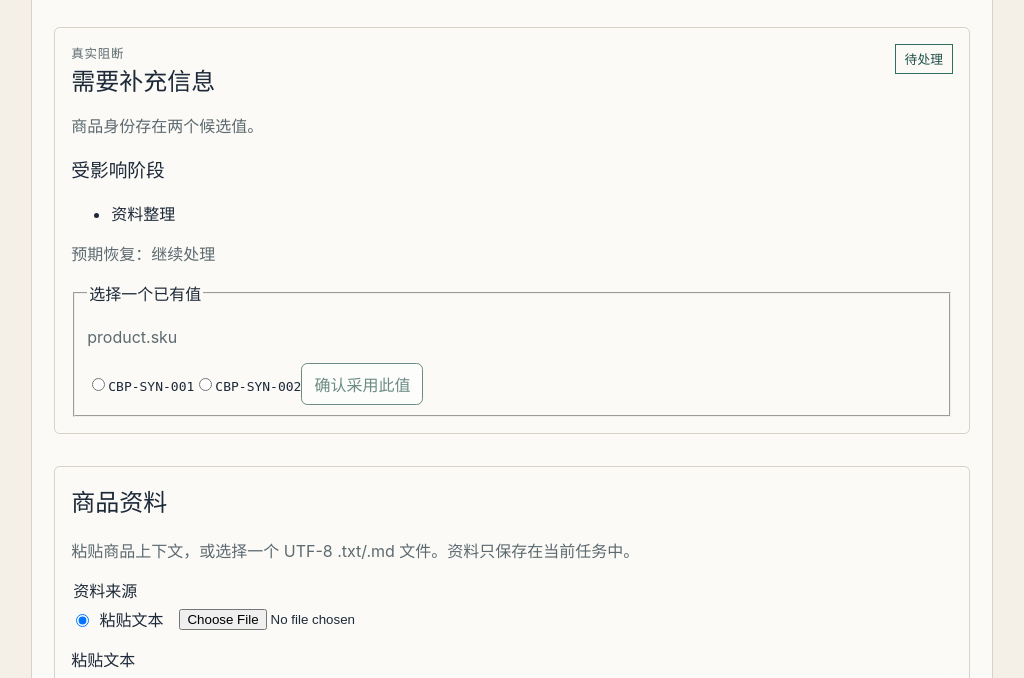
Test: TaskRoutes › blocks a stale authority response and offers an explicit Task refresh instead of replay
(page scrolled)
Click the radio button labelled "CBP-SYN-001".
click(99, 384)  # box [92,378,105,391]
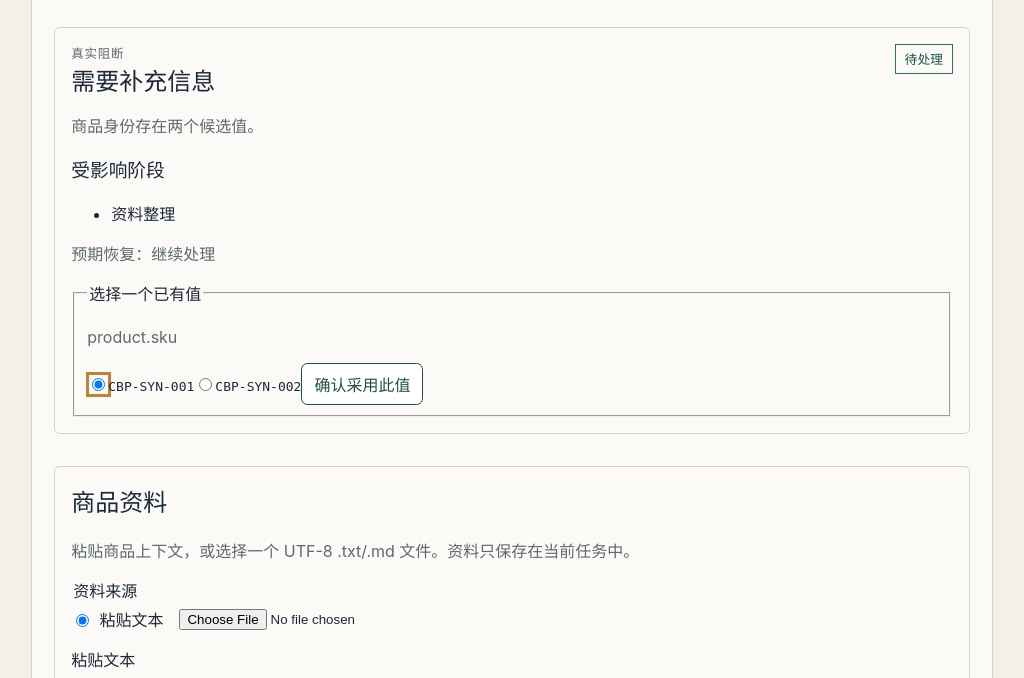
Click the button "确认采用此值".
click(362, 384)  # box [301,363,423,405]
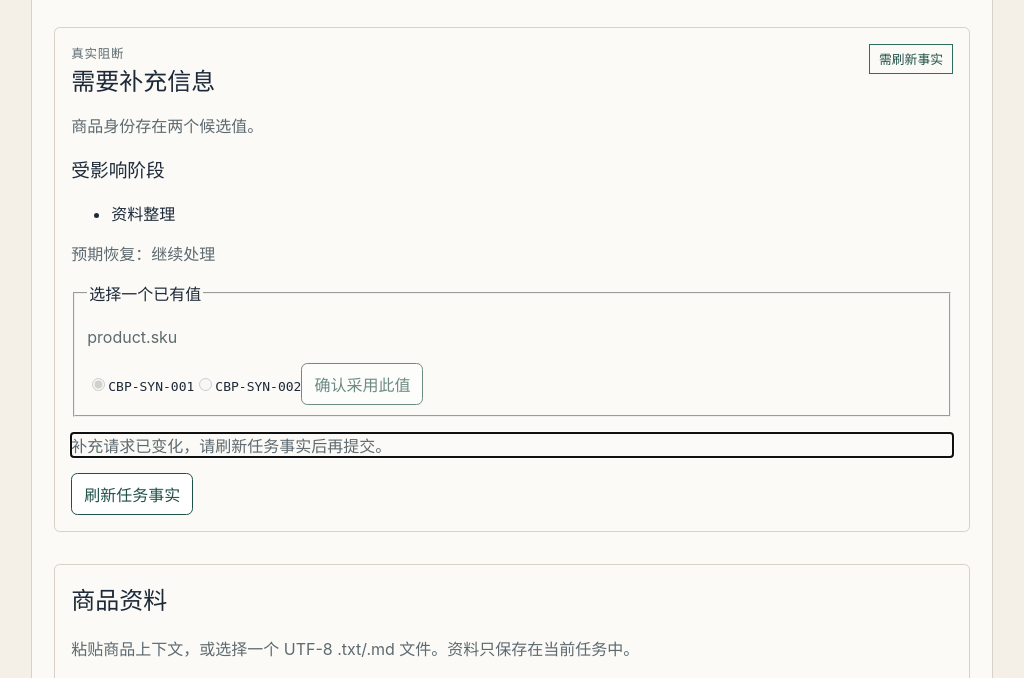
Expected: the text "补充请求已变化，请刷新任务事实后再提交。" is shown, [71,436,391,456]
Expected: the button "刷新任务事实" is shown, [71,473,193,515]
